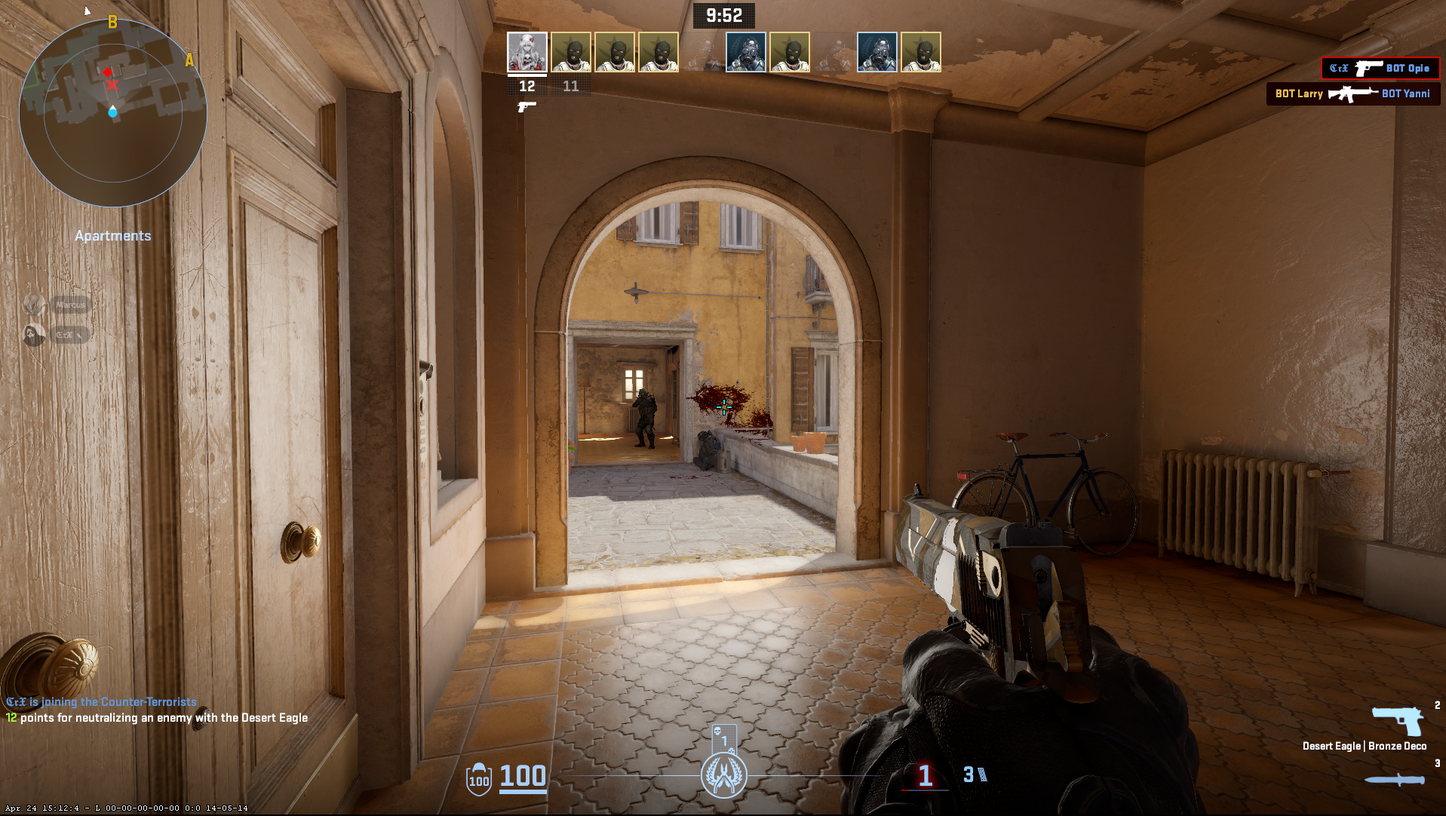CT: (633, 388, 657, 448)
